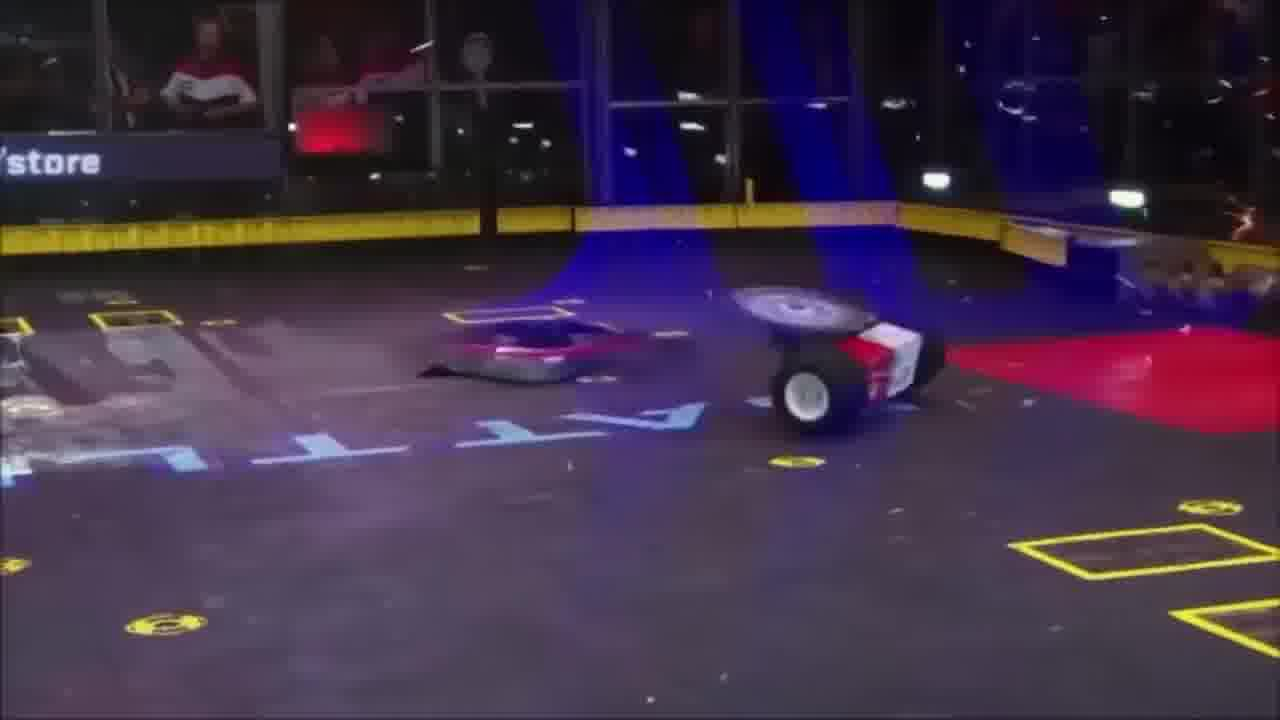combatbot: (738, 284, 948, 432), (428, 318, 689, 385)
